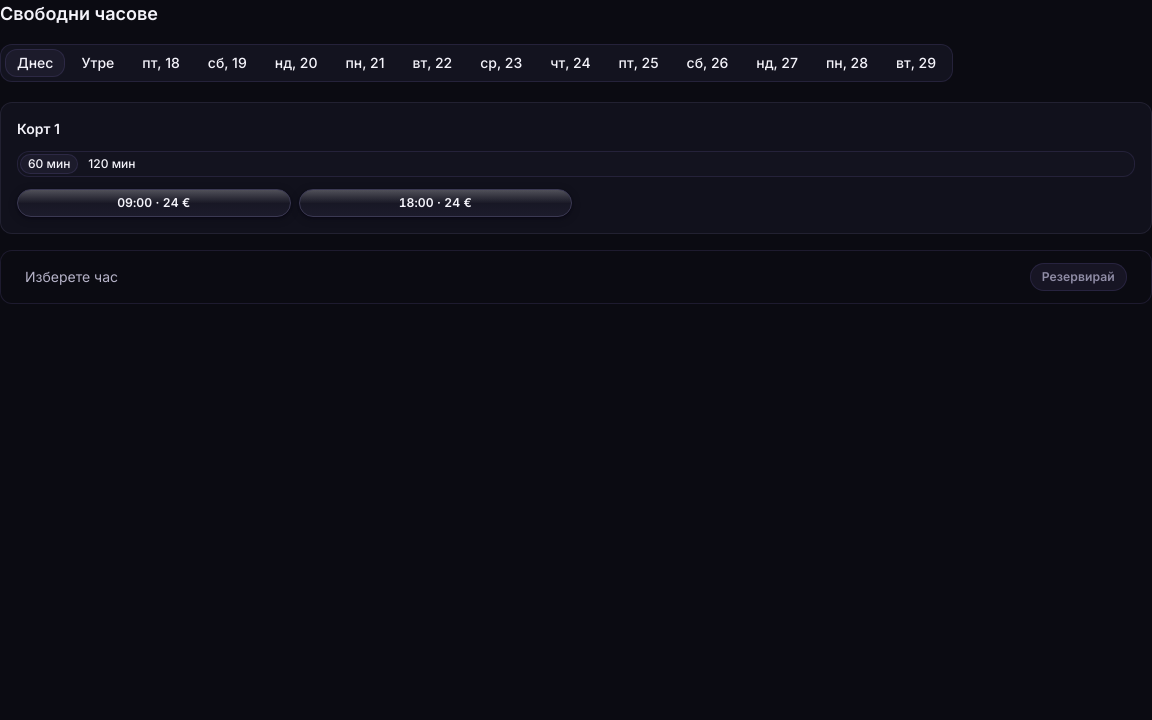
Test case: the confirmation sheet › says plainly when the slot is inside the club’s cutoff
Click the button "09:00 · 24 €" at (154, 203), box top-left (17, 189), bottom-right (290, 217)
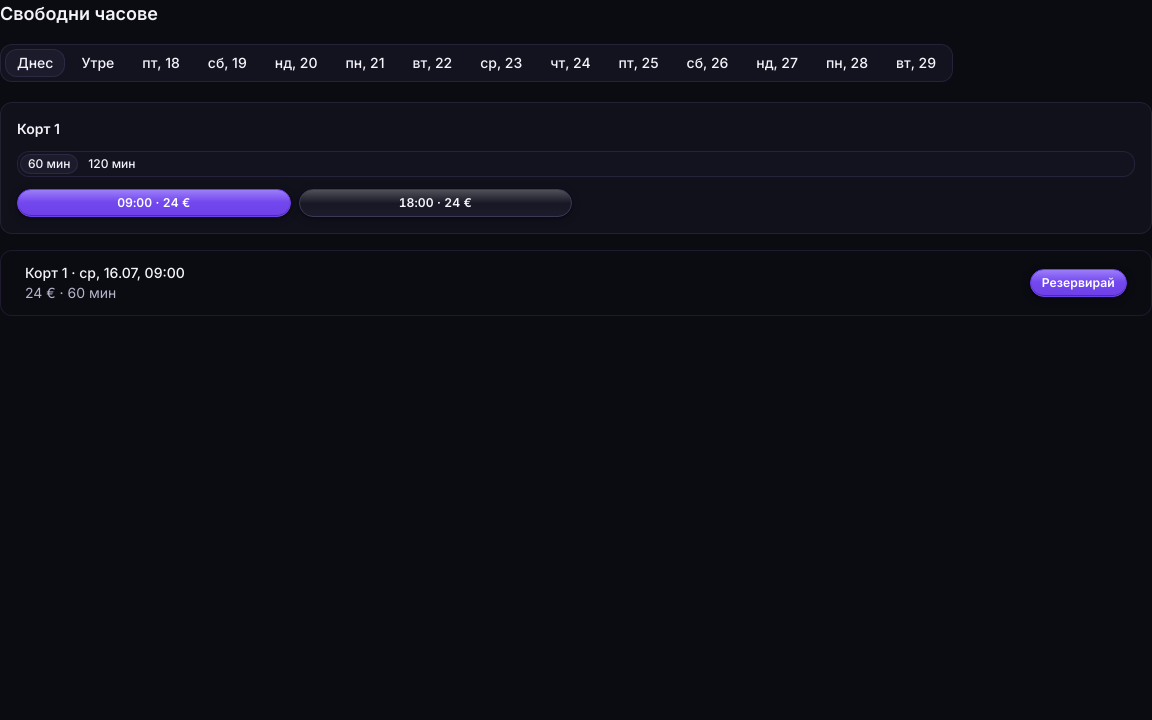
Click the button "Резервирай" at (1078, 283), box top-left (1030, 269), bottom-right (1127, 297)
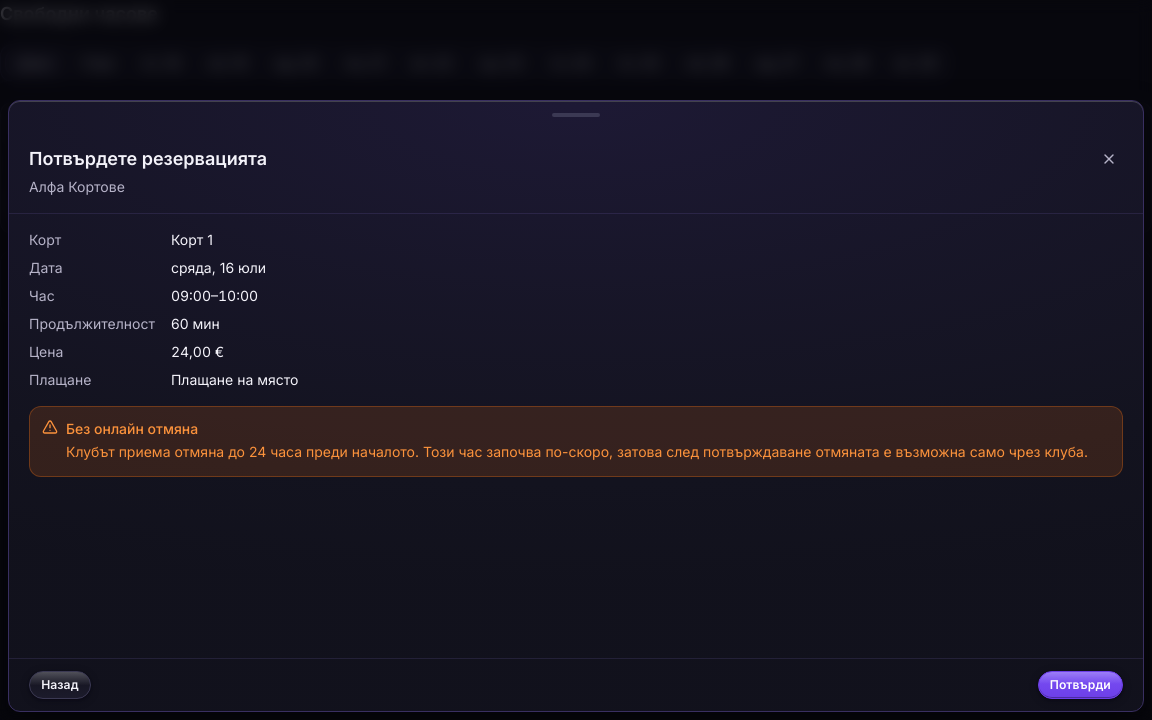
Now the text "Без онлайн отмяна" is shown, box top-left (66, 420), bottom-right (198, 437)
Now the text "до 24 часа преди началото" is shown, box top-left (66, 443), bottom-right (1088, 460)
